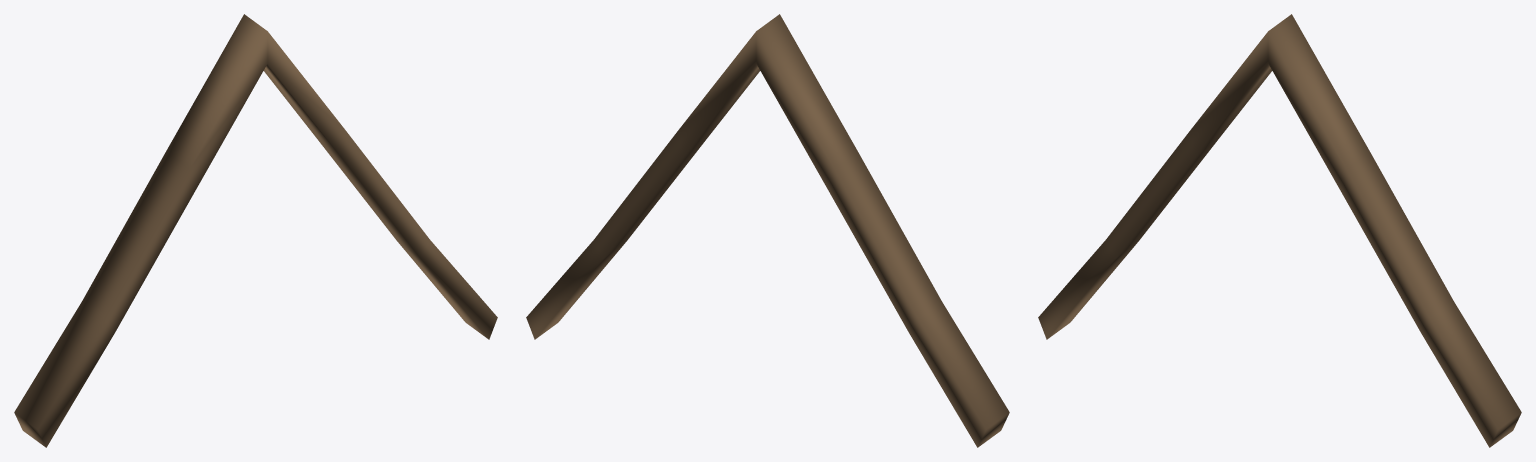
File: rpgpp_av_roof_end_01_6x5_beam_a.gltf
The picture shows the model from 3 angles, left to right: view 1: azimuth 30°, elevation 25°; view 2: azimuth 150°, elevation 25°; view 3: azimuth 330°, elevation 25°; orthographic projection.
Visible parts, largest first — view 1: rpgpp_av_roof_end_01_6x5_beam_a; view 2: rpgpp_av_roof_end_01_6x5_beam_a; view 3: rpgpp_av_roof_end_01_6x5_beam_a.
Part boxes in pixels (<box>): rpgpp_av_roof_end_01_6x5_beam_a: <box>14,14,497,447</box>; rpgpp_av_roof_end_01_6x5_beam_a: <box>526,14,1009,447</box>; rpgpp_av_roof_end_01_6x5_beam_a: <box>1038,14,1521,447</box>.
Size of the model in its own units: 0.0734 by 0.0553 by 0.00654.
Materials: 1 (1 with a texture image).
